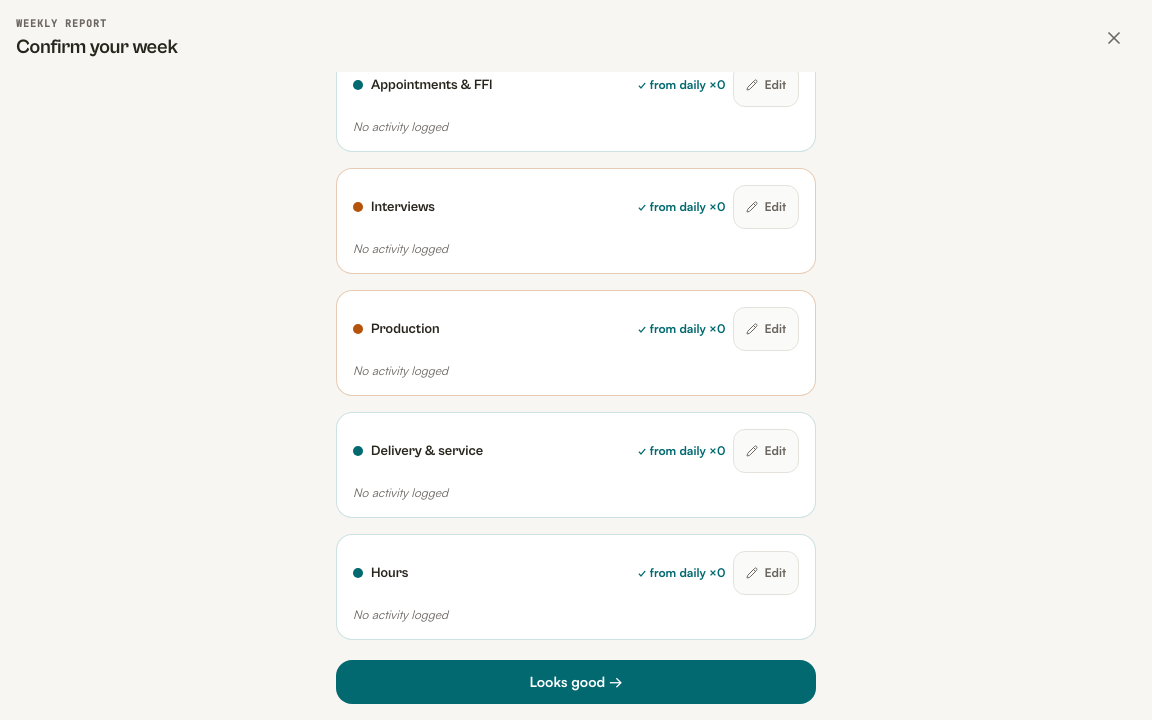
Wizard v3 — Confirm screen (fast-path entry) › "Looks good →" advances into the step flow at step 10 (Rate your week)
(page scrolled)
Click the button with test id "week-confirm-next" at (576, 682), box [336,660,816,704]
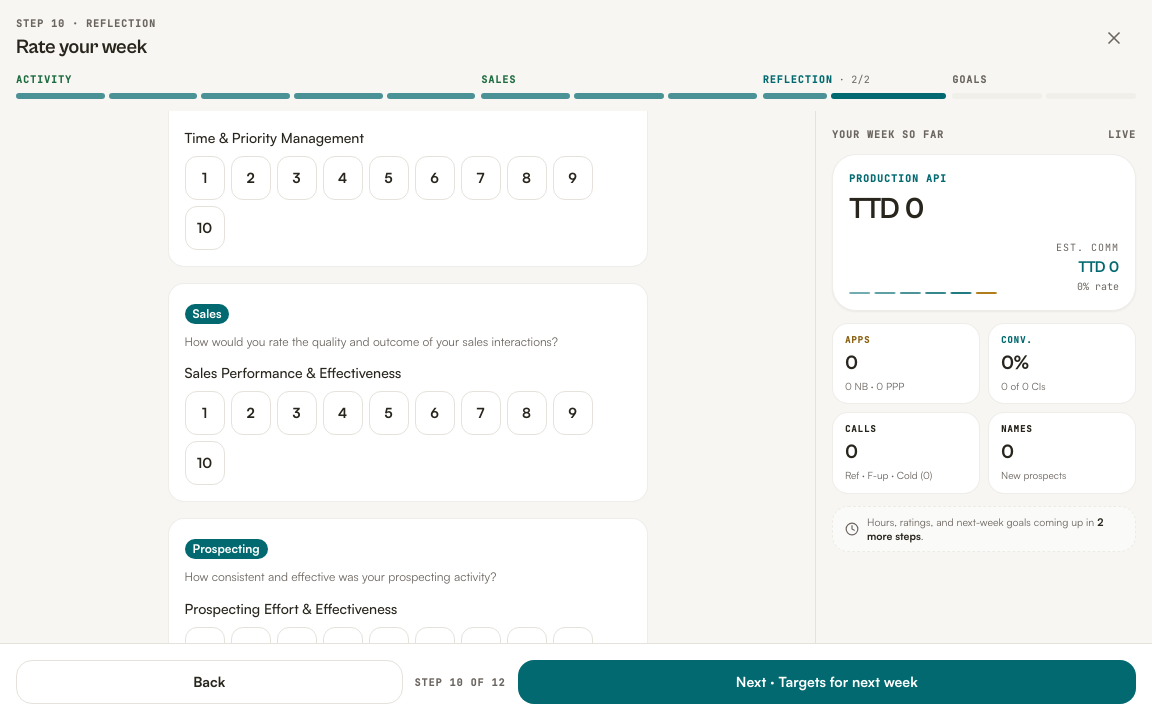
Result: the text with test id "wizard-v2-step-counter" reads "Step 10 of 12" at [414,674,506,690]
Result: the heading with test id "wizard-v2-step-title" reads "Rate your week" at [16,36,147,59]
